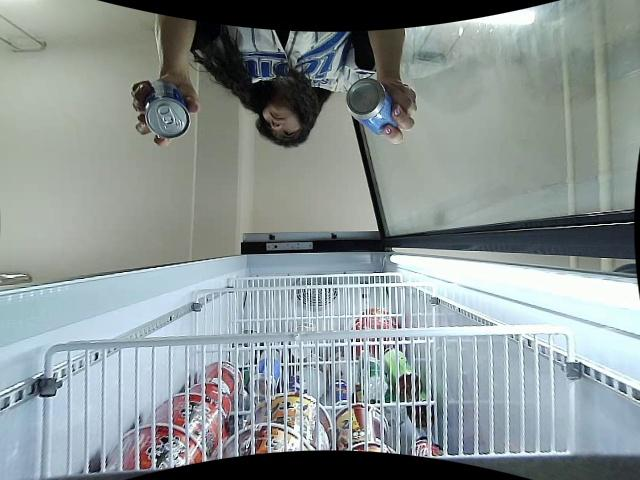00_hand: (131, 76, 199, 146), (380, 78, 417, 146)
15_letsbe: (347, 80, 400, 135), (145, 79, 191, 139)
